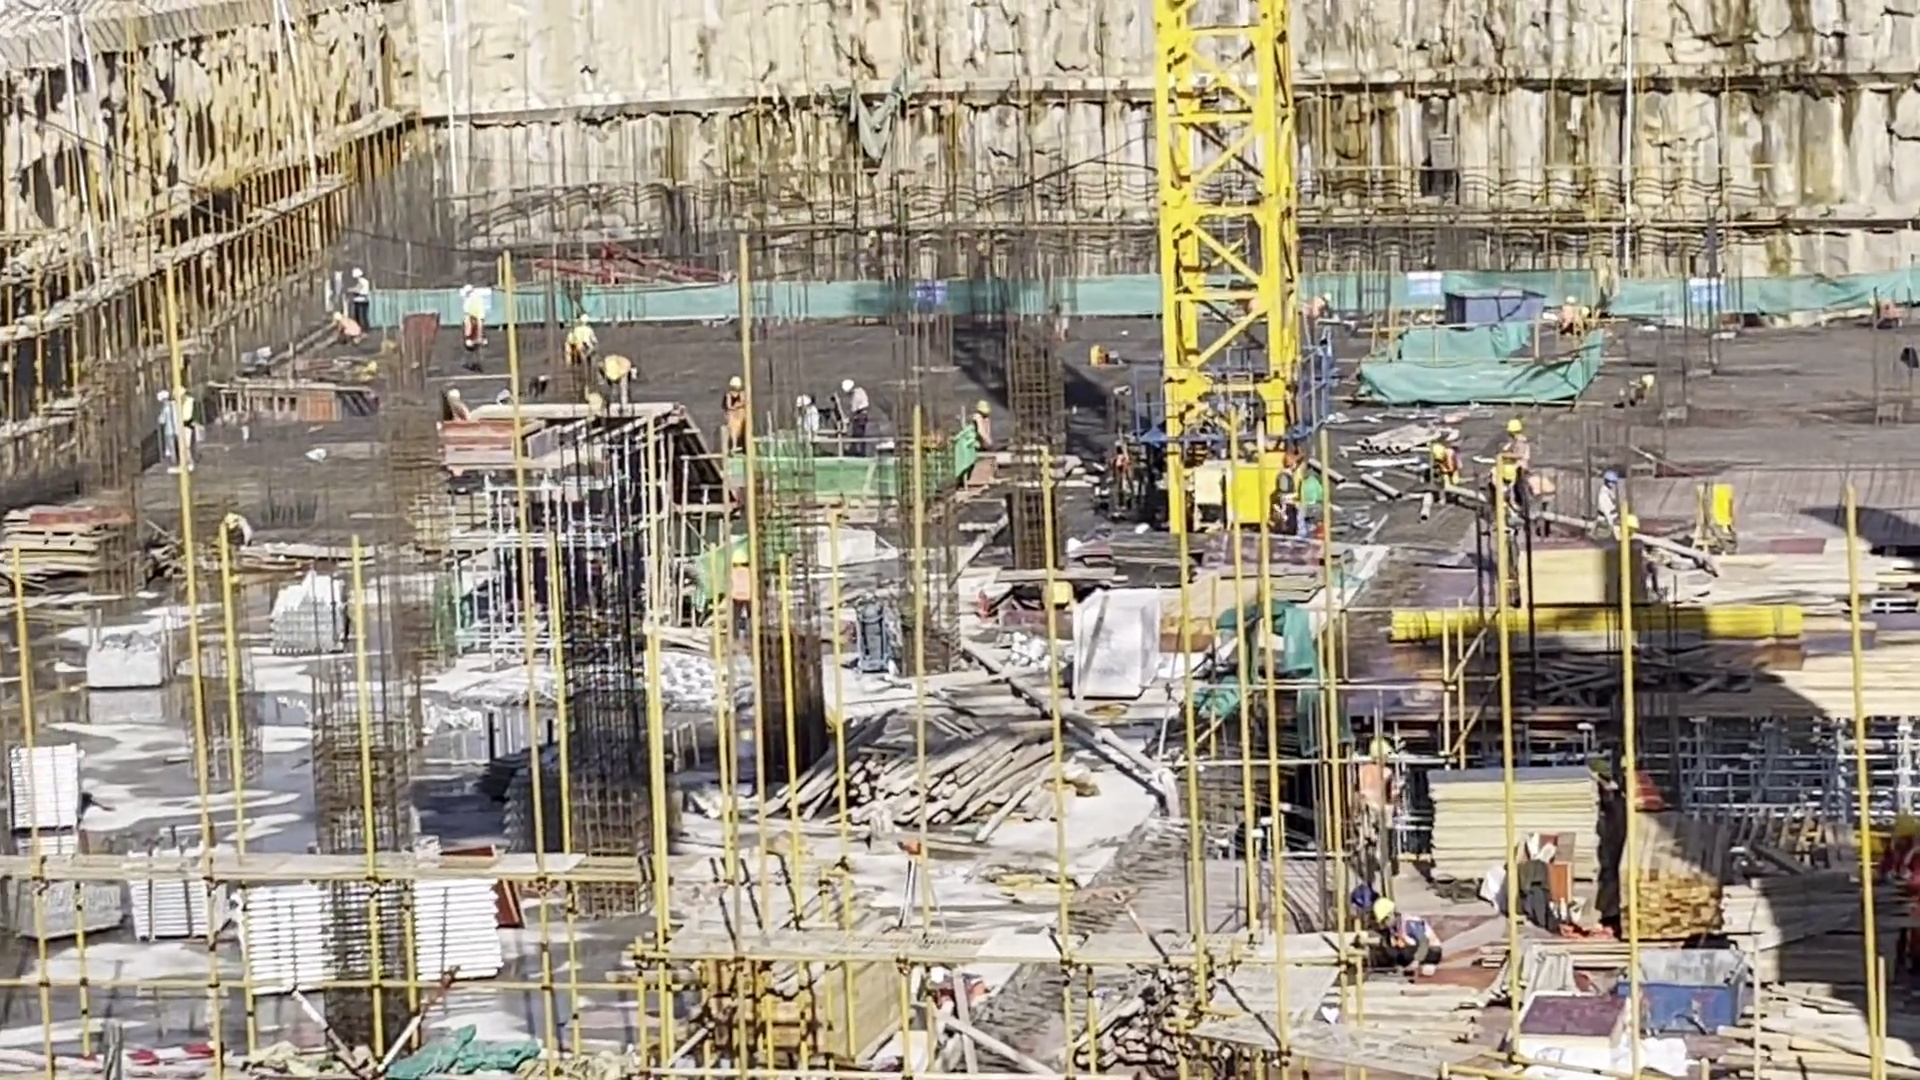helmet: (1365, 893, 1406, 920), (1882, 811, 1917, 841), (158, 376, 189, 398), (1607, 755, 1637, 775), (1368, 737, 1392, 758), (1504, 414, 1527, 432), (221, 512, 240, 532), (574, 325, 594, 342), (1642, 374, 1656, 397), (795, 392, 819, 405), (845, 375, 860, 396), (972, 399, 986, 421), (611, 356, 624, 378), (1606, 467, 1623, 484), (1433, 443, 1450, 458), (1322, 291, 1336, 309), (456, 280, 470, 296), (1877, 289, 1888, 304), (1579, 304, 1588, 322), (350, 268, 365, 276), (727, 376, 739, 387), (338, 306, 343, 308)
person: (1879, 804, 1920, 957), (1361, 734, 1406, 854), (1368, 892, 1438, 966), (1607, 752, 1678, 817), (1498, 413, 1534, 529), (833, 374, 874, 454), (1584, 476, 1632, 534), (592, 351, 638, 407), (723, 377, 753, 455), (459, 303, 489, 379), (174, 384, 200, 466), (783, 393, 826, 439), (232, 343, 282, 381), (155, 385, 178, 464), (336, 311, 384, 348), (564, 322, 601, 369), (217, 512, 258, 554), (1424, 433, 1461, 479), (352, 269, 375, 335), (1559, 297, 1593, 339), (1619, 368, 1653, 408), (973, 397, 998, 451), (1869, 292, 1900, 323), (1312, 285, 1336, 324)
vest: (1357, 761, 1394, 828), (723, 390, 774, 429), (1883, 847, 1920, 895), (1625, 777, 1659, 816), (149, 395, 177, 440), (1591, 485, 1625, 521), (1396, 919, 1441, 943), (566, 335, 594, 366), (967, 412, 993, 442), (603, 358, 634, 383), (851, 395, 878, 422), (1505, 436, 1527, 466), (458, 309, 478, 332), (1564, 305, 1581, 331), (1881, 302, 1904, 321), (352, 278, 368, 305), (804, 410, 822, 432), (1307, 302, 1327, 319), (235, 523, 256, 538), (1613, 381, 1631, 394), (345, 313, 355, 335), (1444, 456, 1454, 469)
